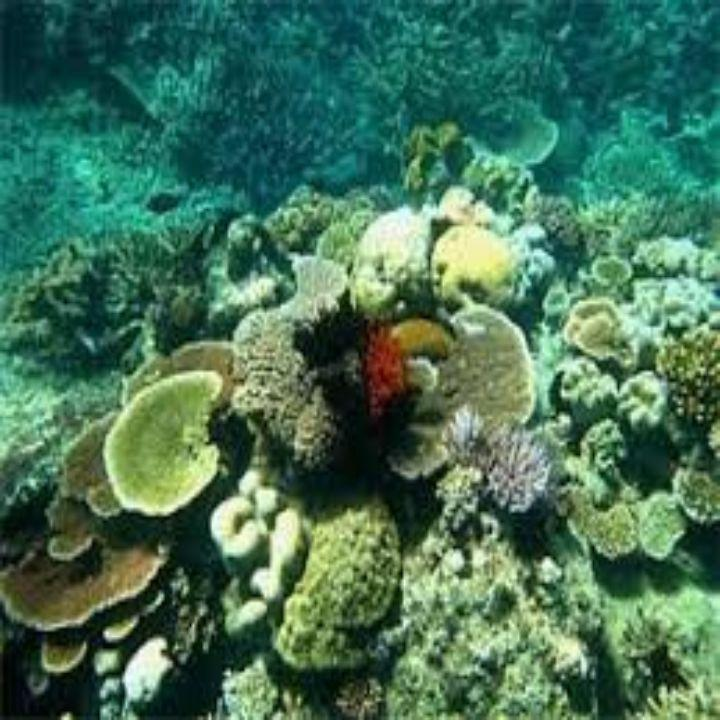Healthy Coral: (36, 233, 692, 695)
